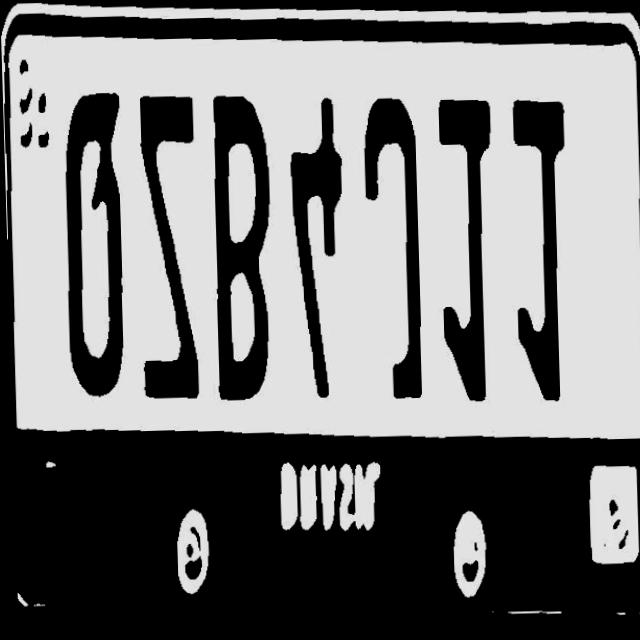1: (429, 109, 504, 418), (506, 103, 581, 411)
4: (286, 95, 362, 415)
b: (207, 91, 288, 422)
j: (359, 94, 438, 418)
q: (54, 78, 131, 413)
z: (129, 83, 209, 414)
